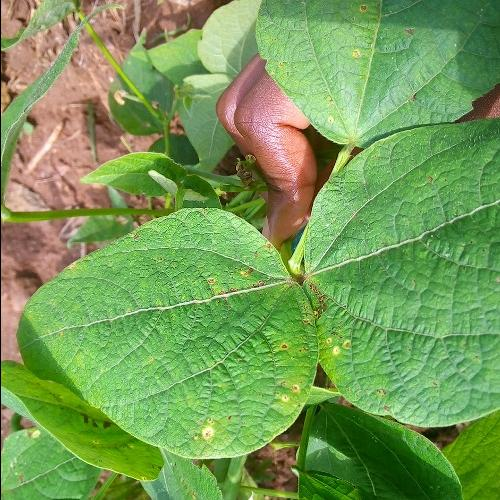hawar: (278, 313, 366, 402), (178, 401, 262, 468)
